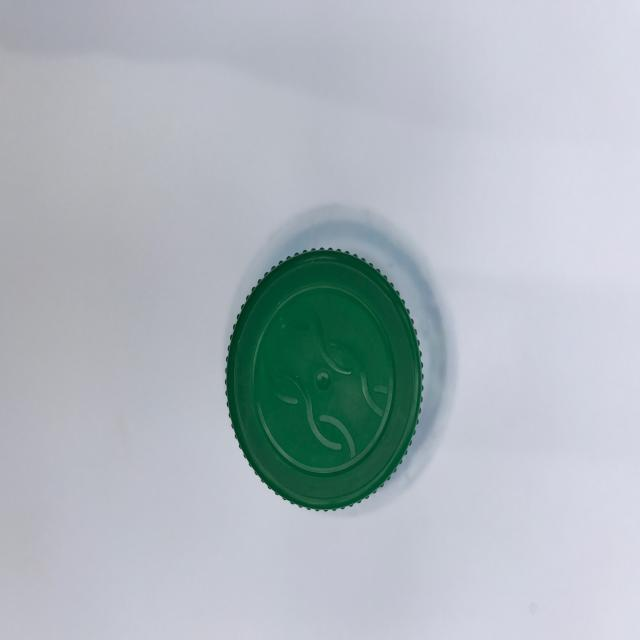plastic: (225, 245, 424, 511)
